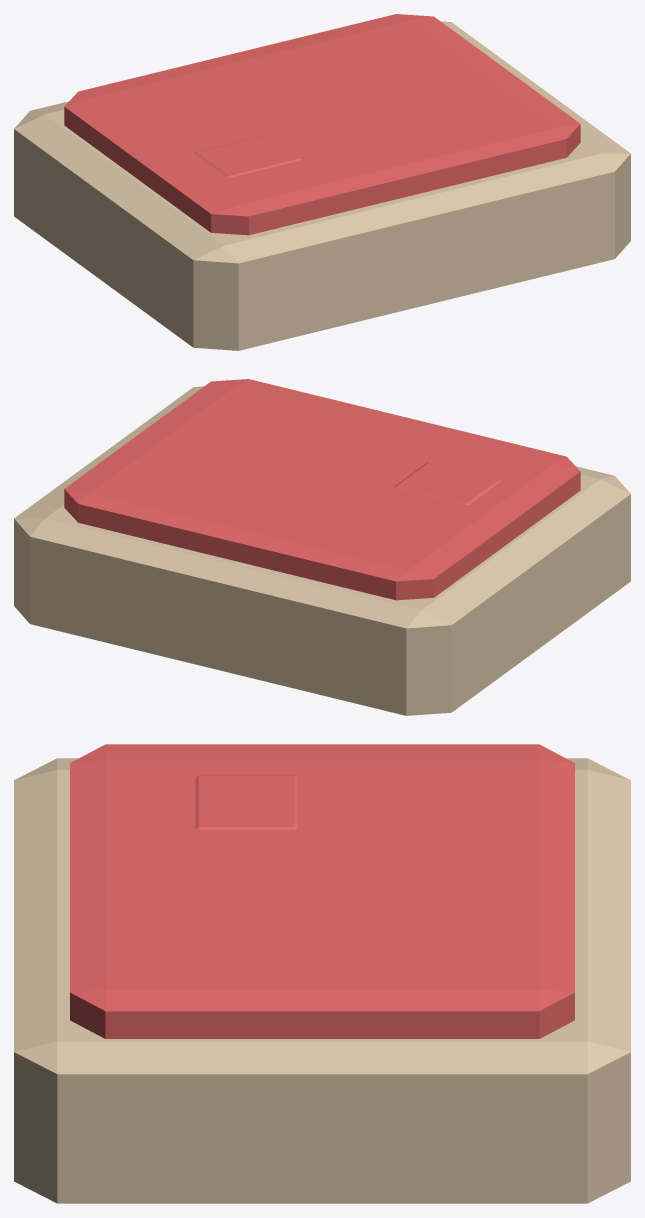
File: b16_crumpled_paper_napkin.glb
3 views of the same model, one above another, from view 1: azimuth 30°, elevation 25°; view 2: azimuth 150°, elevation 25°; view 3: azimuth 270°, elevation 25° (orthographic). The views are drawn at different scales.
Parts seen in each view (by area): view 1: b16_crumpled_paper_napkin; view 2: b16_crumpled_paper_napkin; view 3: b16_crumpled_paper_napkin.
Part boxes in pixels (x1,y1,x2,y2): b16_crumpled_paper_napkin: (14, 14, 630, 350); b16_crumpled_paper_napkin: (14, 379, 630, 715); b16_crumpled_paper_napkin: (14, 744, 630, 1203).
Size of the model in its own units: 0.126 by 0.034 by 0.104.
